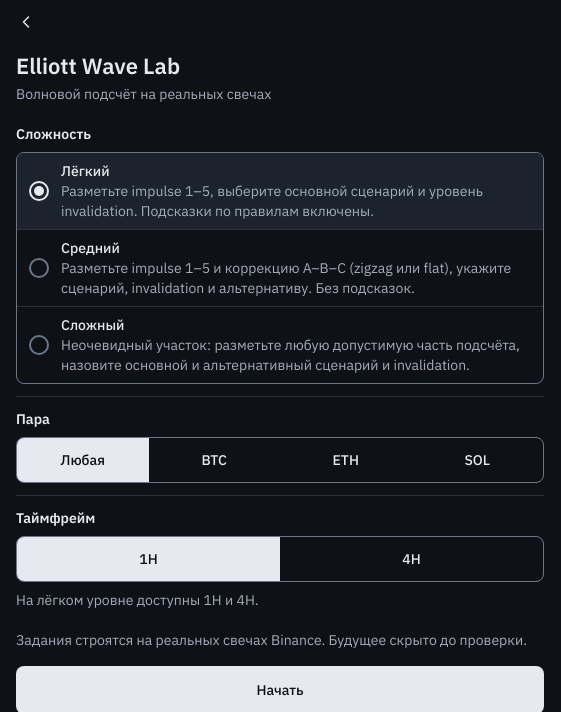
Test: ElliottSetup › три сложности; ТФ ограничены: на лёгком нет 15m, 1d нет нигде; выбор меняет ссылку
Expected: the radio button labelled "Лёгкий" is shown, [17, 153, 543, 230]
Expected: the radio button labelled "Средний" is shown, [17, 230, 543, 307]
What coordinates should you click on to do the following:
click the radio button labelled "4H"
I would click on:
 (412, 559)
Its box is [280, 537, 543, 581].
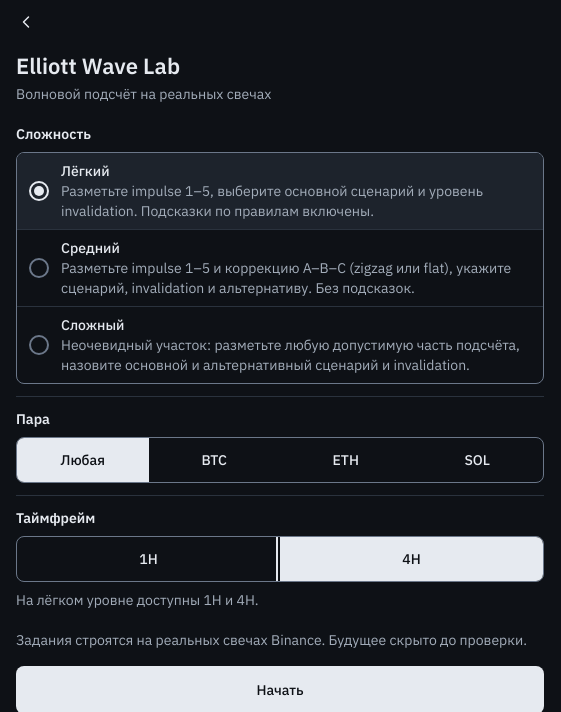
What coordinates should you click on to do the following:
click the radio button labelled "Сложный"
I would click on:
 (280, 345)
Its box is [17, 307, 543, 383].
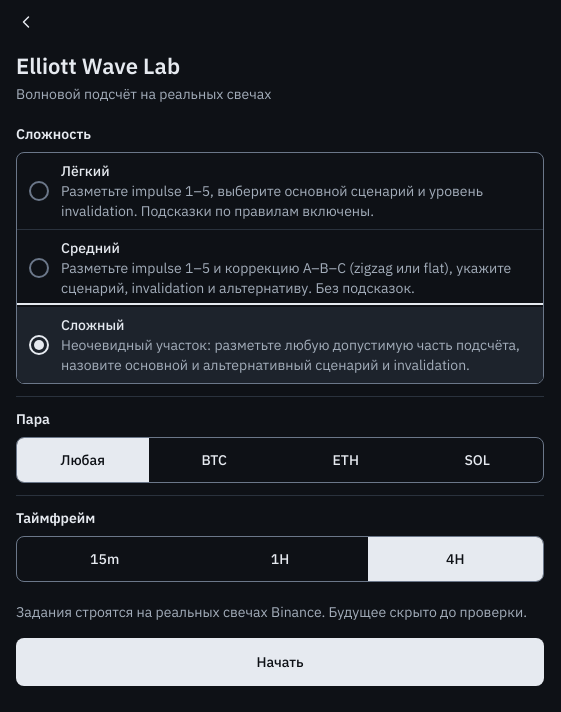
Expected: the radio button labelled "15m" is shown, [17, 537, 192, 581]
